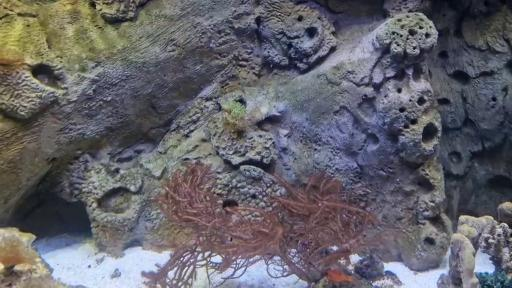Fish: (326, 270, 355, 282)
